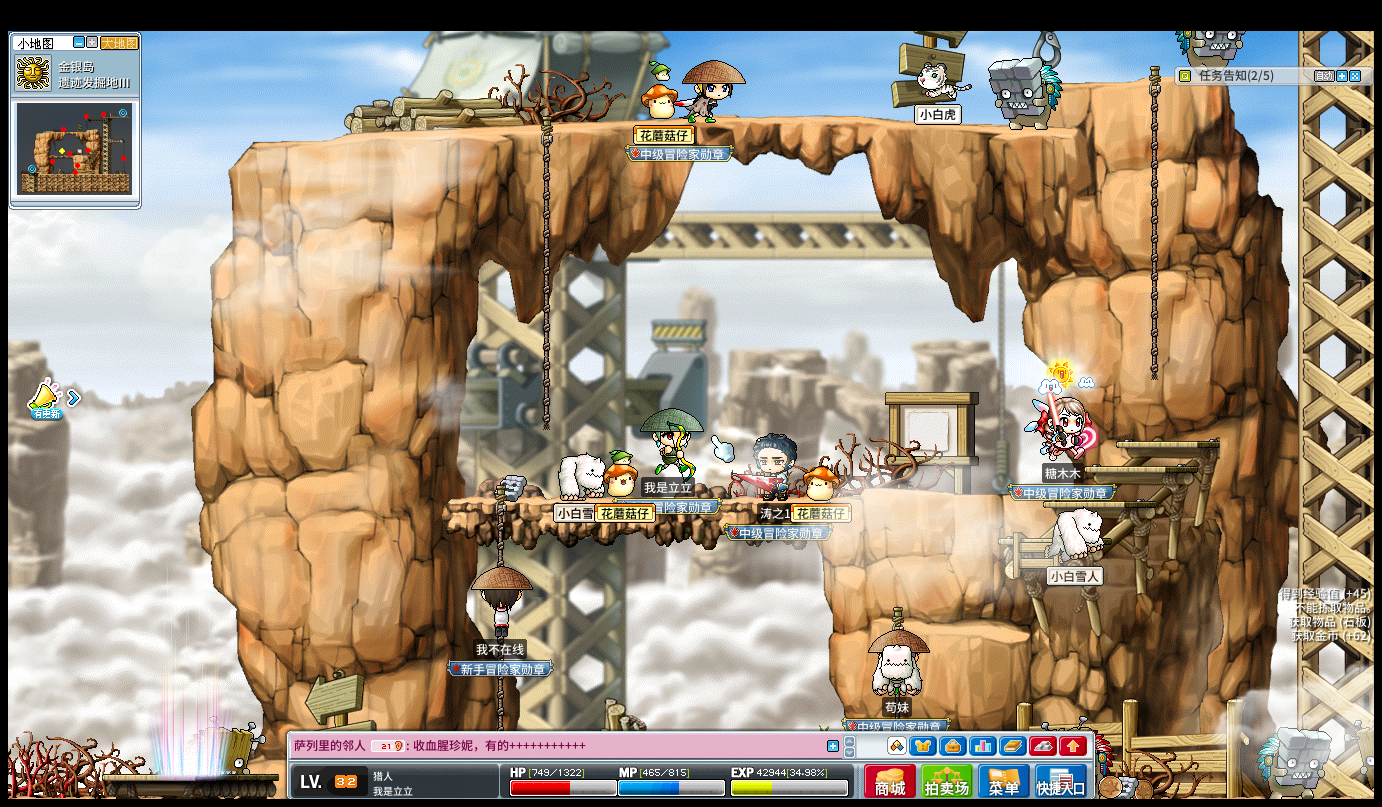floor: (233, 111, 1086, 146), (448, 495, 820, 505), (923, 621, 1029, 642), (1063, 75, 1173, 89), (919, 490, 1079, 499), (920, 492, 1071, 501), (921, 493, 1060, 502), (1116, 438, 1219, 449), (1048, 500, 1158, 509), (1084, 464, 1194, 472), (1069, 498, 1154, 507)
monster: (987, 55, 1061, 131), (1258, 728, 1328, 794)
rope: (1146, 62, 1160, 382), (539, 116, 551, 429), (492, 489, 505, 566), (492, 676, 502, 728)
